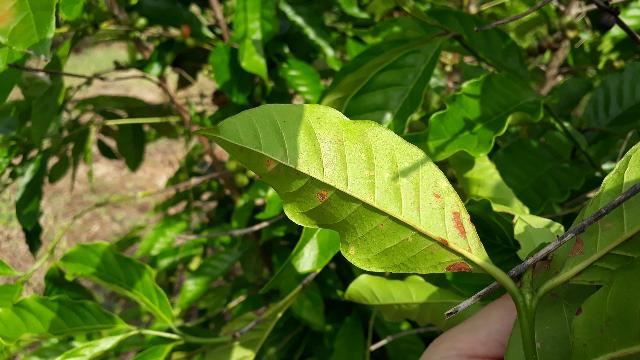red_spider_mite: (195, 106, 501, 280)
